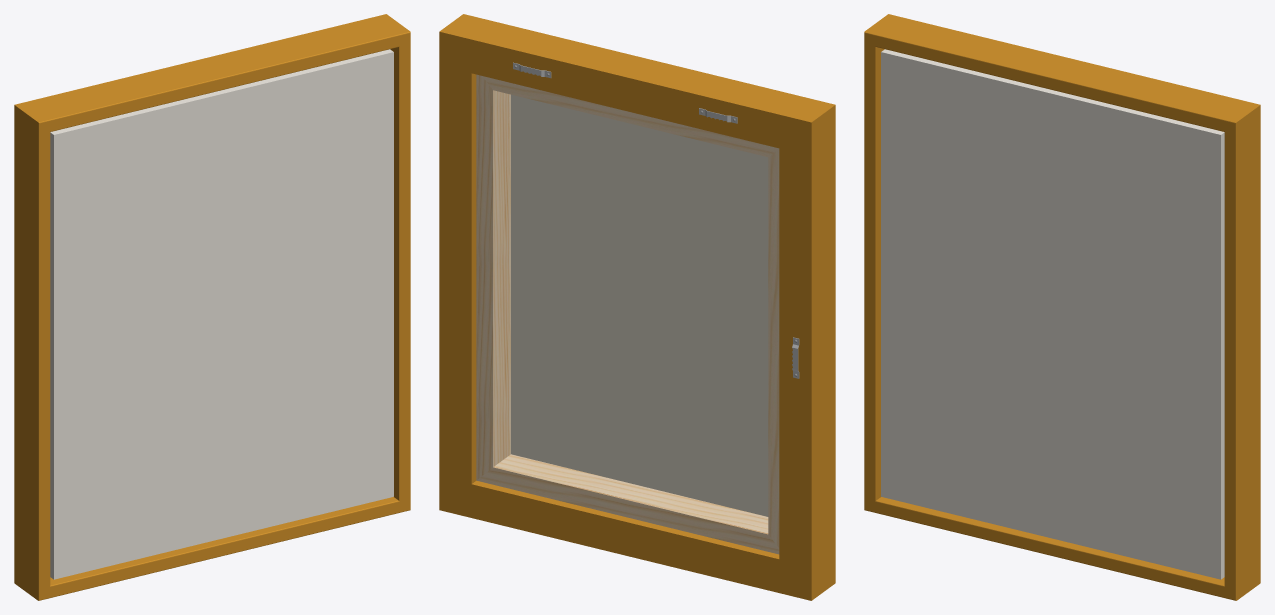
The model's file is delivery.glb.
The picture shows the model from 3 angles, left to right: view 1: azimuth 30°, elevation 25°; view 2: azimuth 150°, elevation 25°; view 3: azimuth 330°, elevation 25°; orthographic projection.
Parts seen in each view (by area): view 1: Canvas artwork front, Tray approved profile 0; view 2: Canvas linen reverse, Tray approved profile 0, Stretcher top, Sawtooth hanger 0; view 3: Canvas artwork front, Tray approved profile 0.
Boxes of the visible parts, box(x1,y1,x2,y2) form: Canvas artwork front: box(50, 49, 393, 579); Tray approved profile 0: box(14, 14, 410, 600); Canvas linen reverse: box(511, 94, 768, 516); Tray approved profile 0: box(439, 14, 835, 600); Stretcher top: box(476, 74, 779, 554); Sawtooth hanger 0: box(513, 62, 799, 378); Canvas artwork front: box(881, 49, 1224, 579); Tray approved profile 0: box(864, 14, 1260, 600).
Size of the model in its own units: 0.438 by 0.538 by 0.0524.
Materials: 7 (2 with a texture image).
